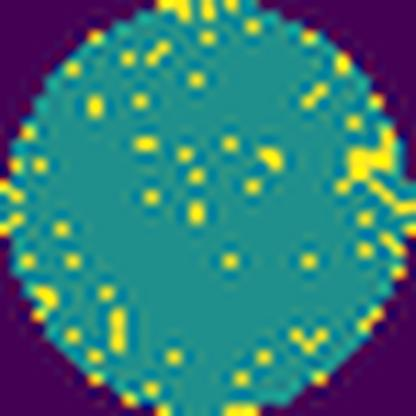Loc: (344, 126, 394, 197)
